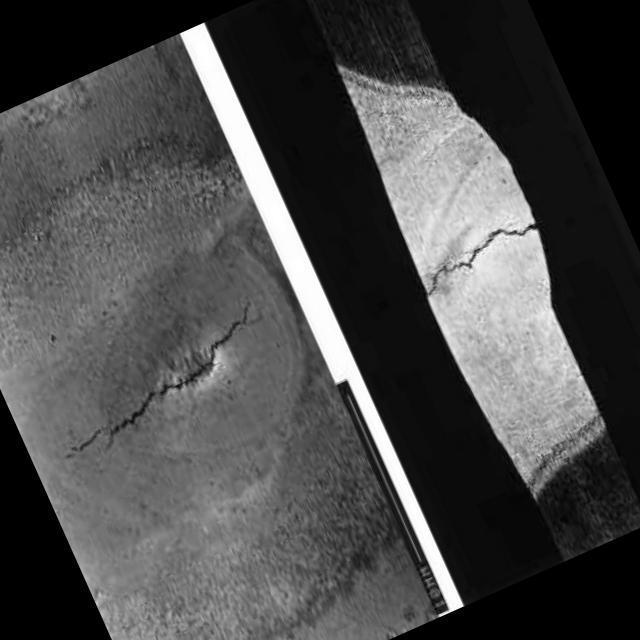defect: (62, 288, 254, 456), (427, 218, 541, 300)
